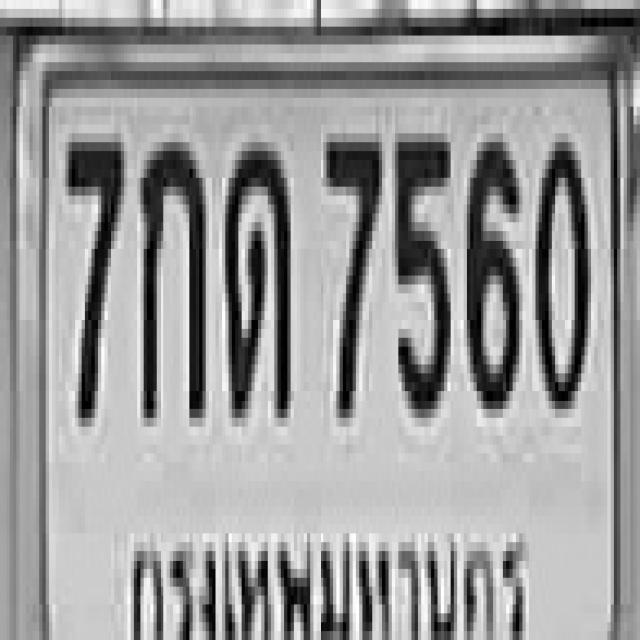0: (532, 133, 584, 400)
10GorGai: (137, 133, 203, 418)
29DorDek: (222, 133, 287, 409)
5: (392, 124, 447, 409)
6: (464, 133, 516, 400)
7: (65, 133, 121, 418), (323, 133, 379, 409)
Bangkok: (124, 521, 538, 640)
